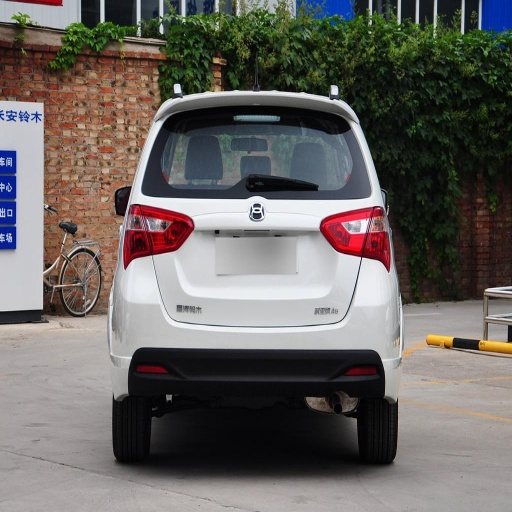back_bumper: (101, 258, 402, 393)
tailgate: (275, 280, 347, 321)
trunk: (135, 199, 372, 323)
